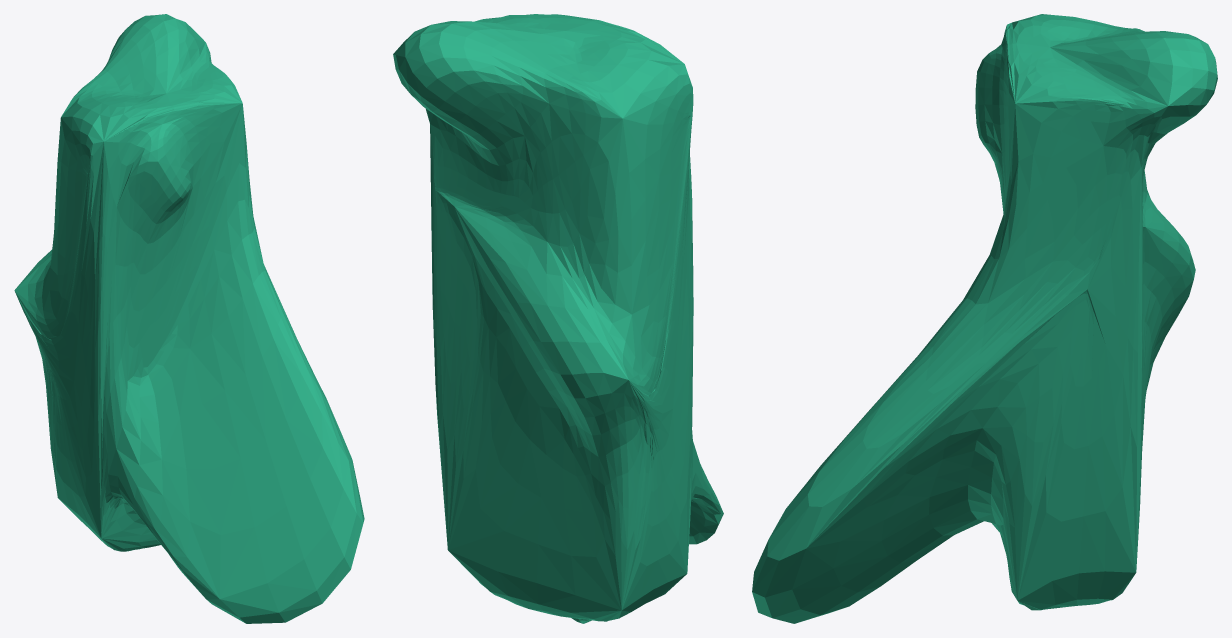
The picture shows the model from 3 angles, left to right: view 1: azimuth 30°, elevation 25°; view 2: azimuth 150°, elevation 25°; view 3: azimuth 270°, elevation 25°; orthographic projection. The views are drawn at different scales.
Visible parts, largest first — view 1: 458_Cube.1855; view 2: 458_Cube.1855; view 3: 458_Cube.1855.
Boxes of the visible parts, x1=… form: 458_Cube.1855: x1=14, y1=14, x2=364, y2=623; 458_Cube.1855: x1=393, y1=14, x2=723, y2=623; 458_Cube.1855: x1=752, y1=14, x2=1217, y2=623.
Bounding box in the file's own units: 5.73 × 13.54 × 9.4.
